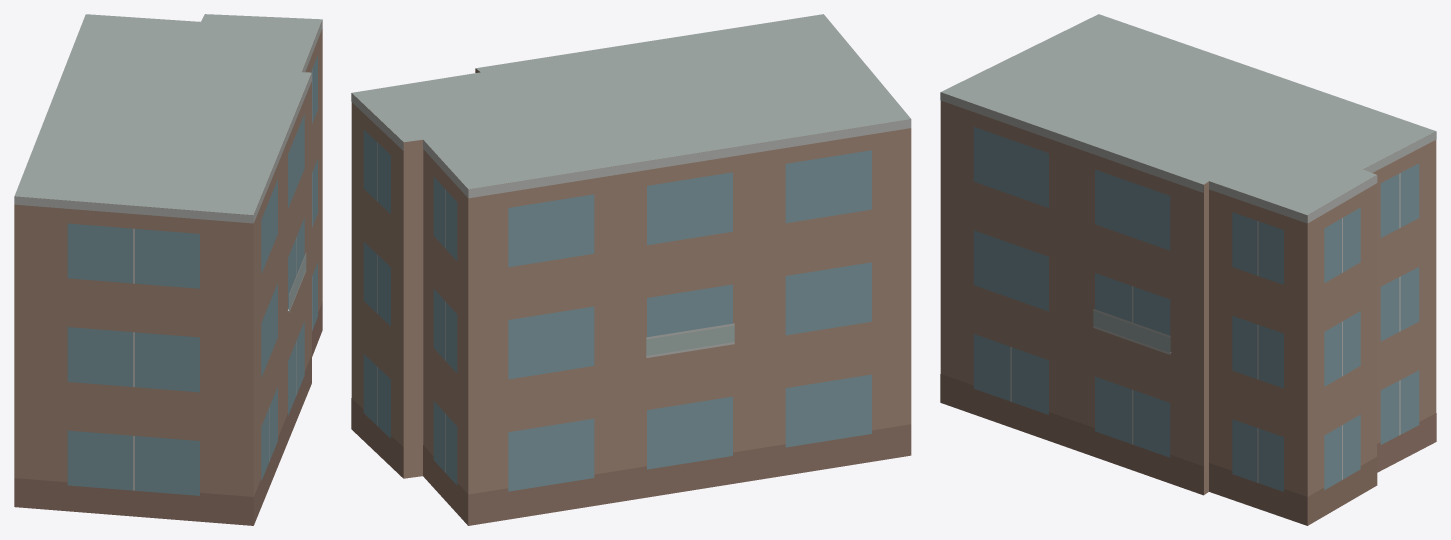
The model's file is survey-upis-32519105.glb.
3 renders of one model, left to right at view 1: azimuth 30°, elevation 25°; view 2: azimuth 150°, elevation 25°; view 3: azimuth 270°, elevation 25°, orthographic. The views are drawn at different scales.
Visible parts, largest first — view 1: survey-upis-32519105.tmp; view 2: survey-upis-32519105.tmp; view 3: survey-upis-32519105.tmp.
Part boxes in pixels (x1,y1,x2,y2): survey-upis-32519105.tmp: [14, 14, 322, 525]; survey-upis-32519105.tmp: [351, 14, 911, 525]; survey-upis-32519105.tmp: [940, 14, 1436, 525].
Bounding box in the file's own units: 12.73 × 9.15 × 13.25.
